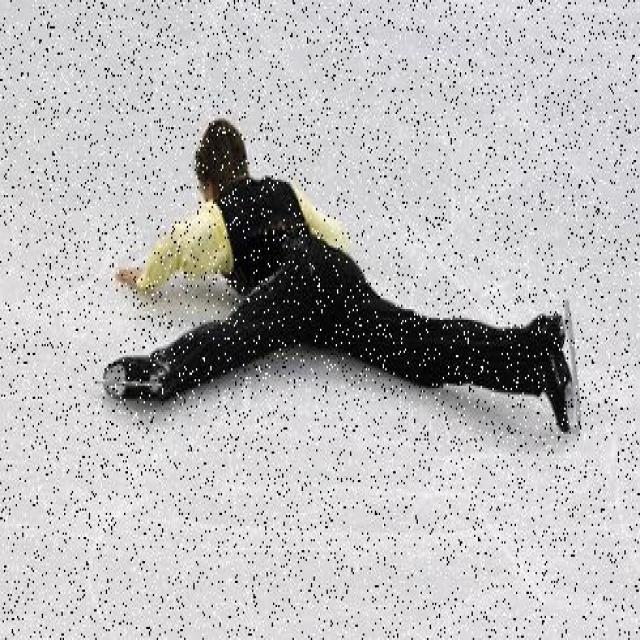fall: (122, 120, 570, 420)
